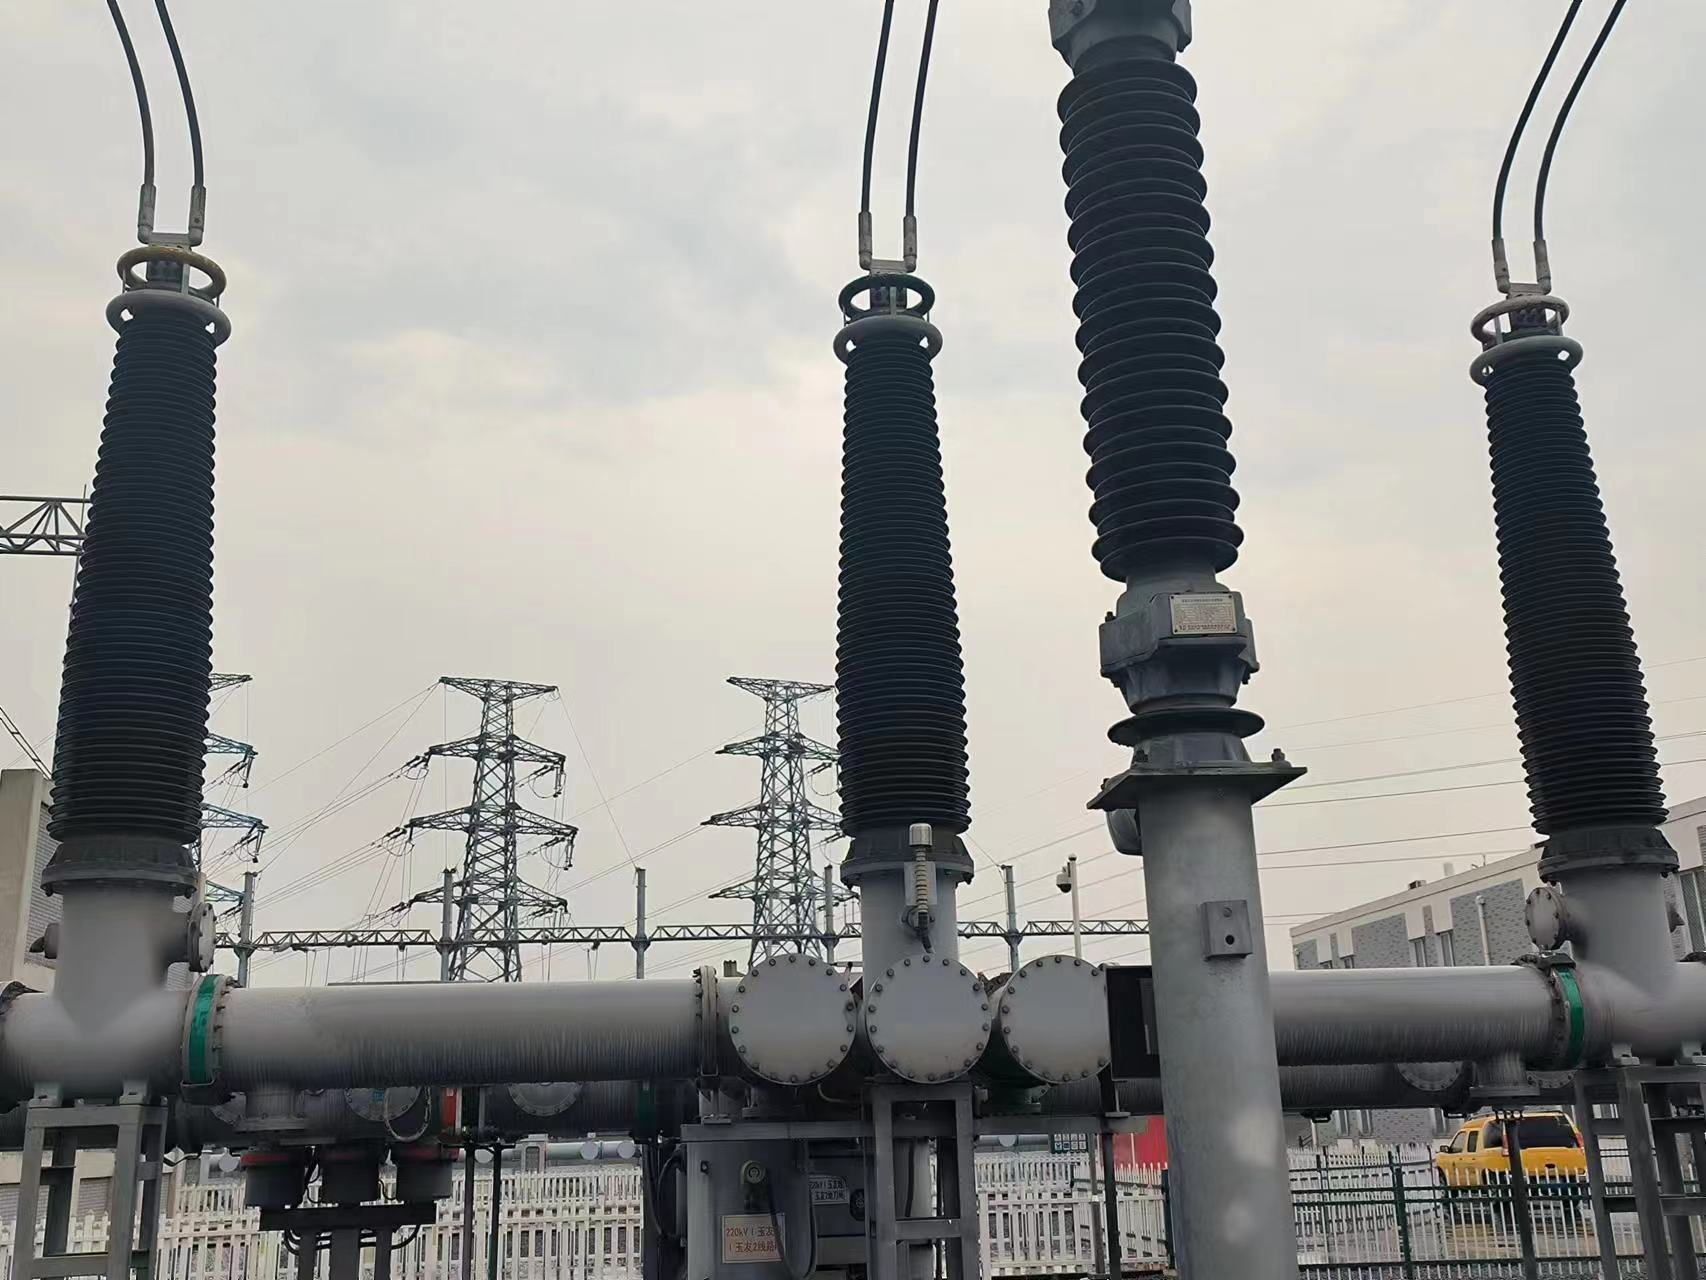Voltage transformer: (40, 239, 231, 834), (1465, 290, 1675, 830), (823, 257, 984, 838)
